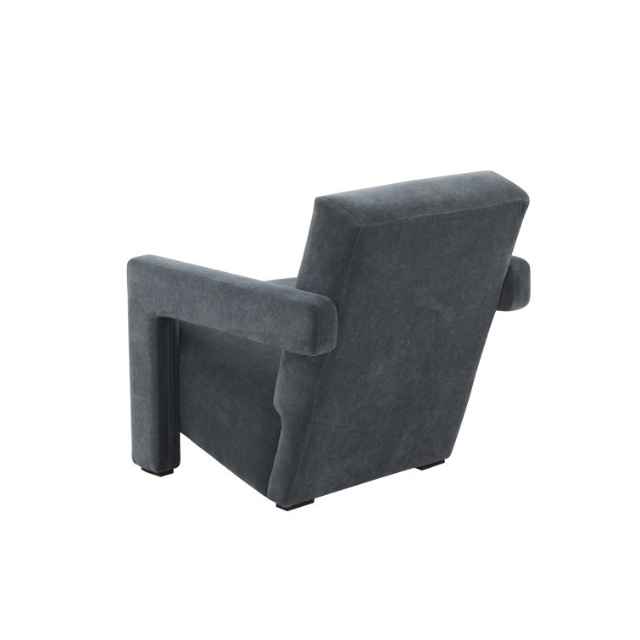obstacle: (128, 172, 528, 509)
